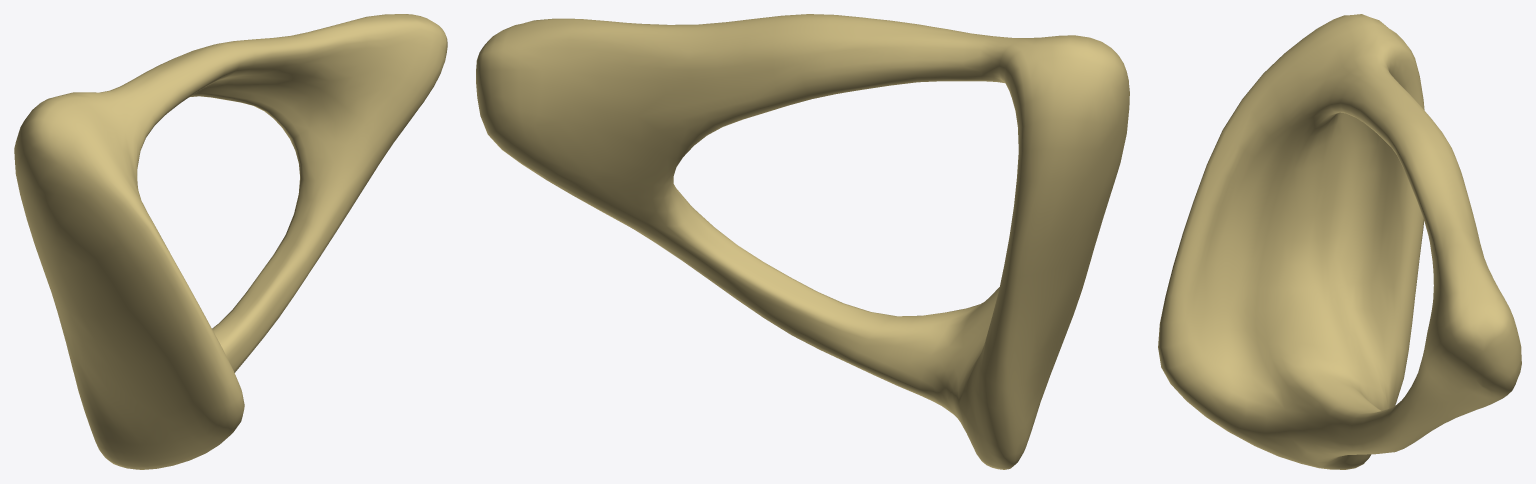
3 views of the same model, side by side, from view 1: azimuth 30°, elevation 25°; view 2: azimuth 150°, elevation 25°; view 3: azimuth 270°, elevation 25° (orthographic). The views are drawn at different scales.
Visible parts, largest first — view 1: 左侧镫骨; view 2: 左侧镫骨; view 3: 左侧镫骨.
Part boxes in pixels (x1,y1,x2,y2): 左侧镫骨: (14,14,447,469); 左侧镫骨: (476,14,1129,469); 左侧镫骨: (1158,14,1521,469).
Size of the model in its own units: 0.00597 by 0.0045 by 0.00358.
